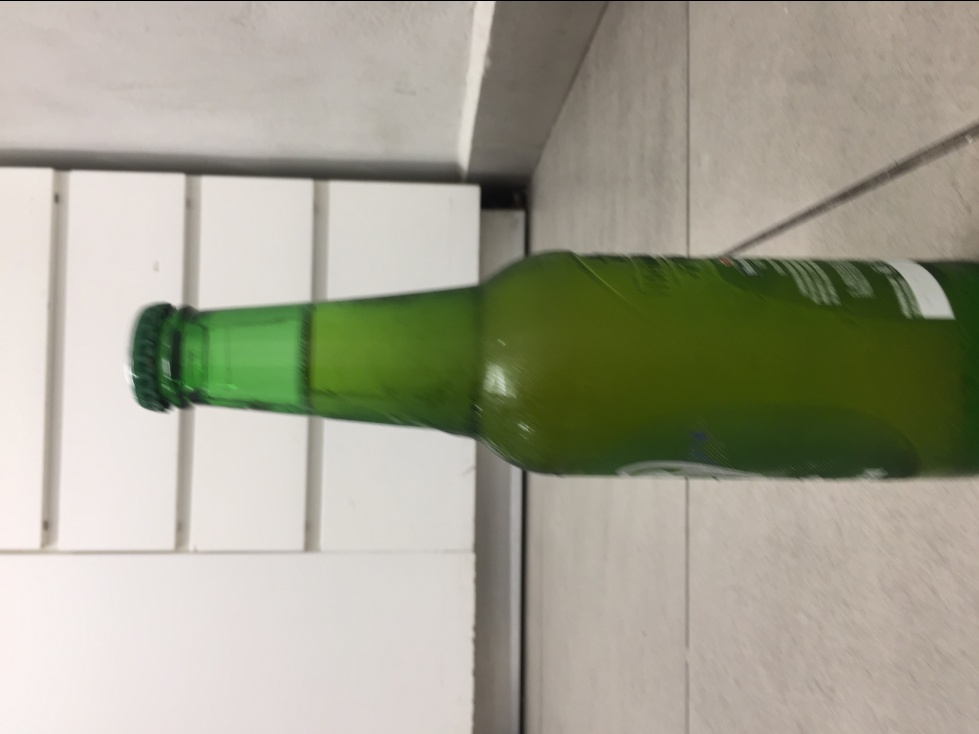heineken: (122, 248, 979, 484)
